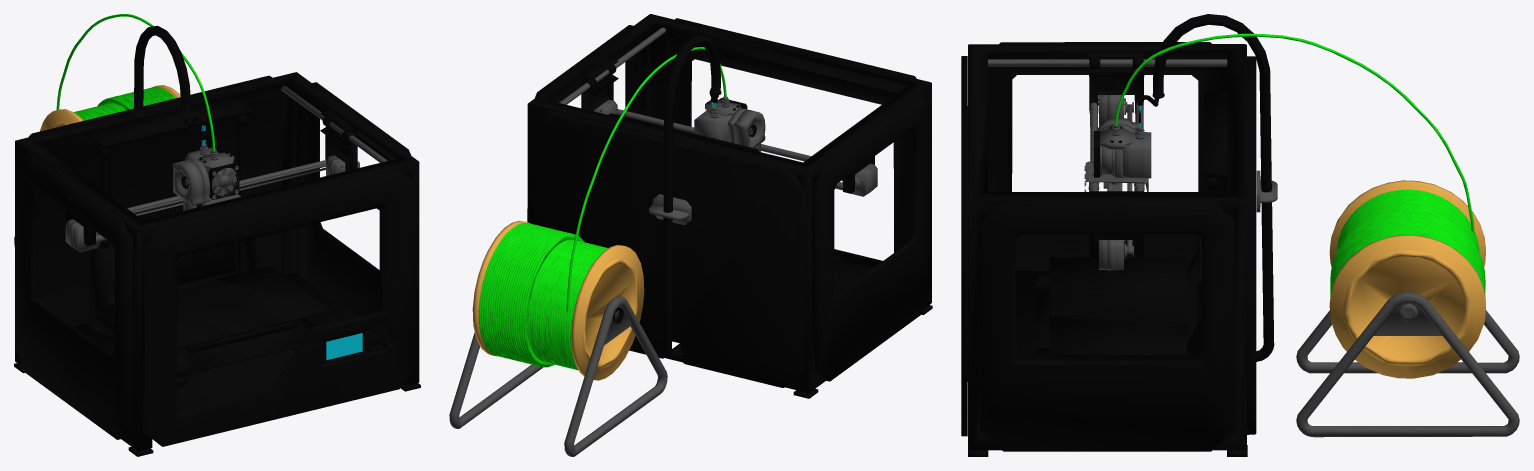
The model's file is printerb.gltf.
3 renders of one model, left to right at view 1: azimuth 30°, elevation 25°; view 2: azimuth 150°, elevation 25°; view 3: azimuth 270°, elevation 25°, orthographic. The views are drawn at different scales.
Parts seen in each view (by area): view 1: makerbot_parts_04; view 2: makerbot_parts_04; view 3: makerbot_parts_04.
Part boxes in pixels (x1,y1,x2,y2): makerbot_parts_04: (14,14,420,456); makerbot_parts_04: (449,14,932,456); makerbot_parts_04: (961,14,1519,456).
Size of the model in its own units: 0.7186 by 0.7499 by 1.04.
